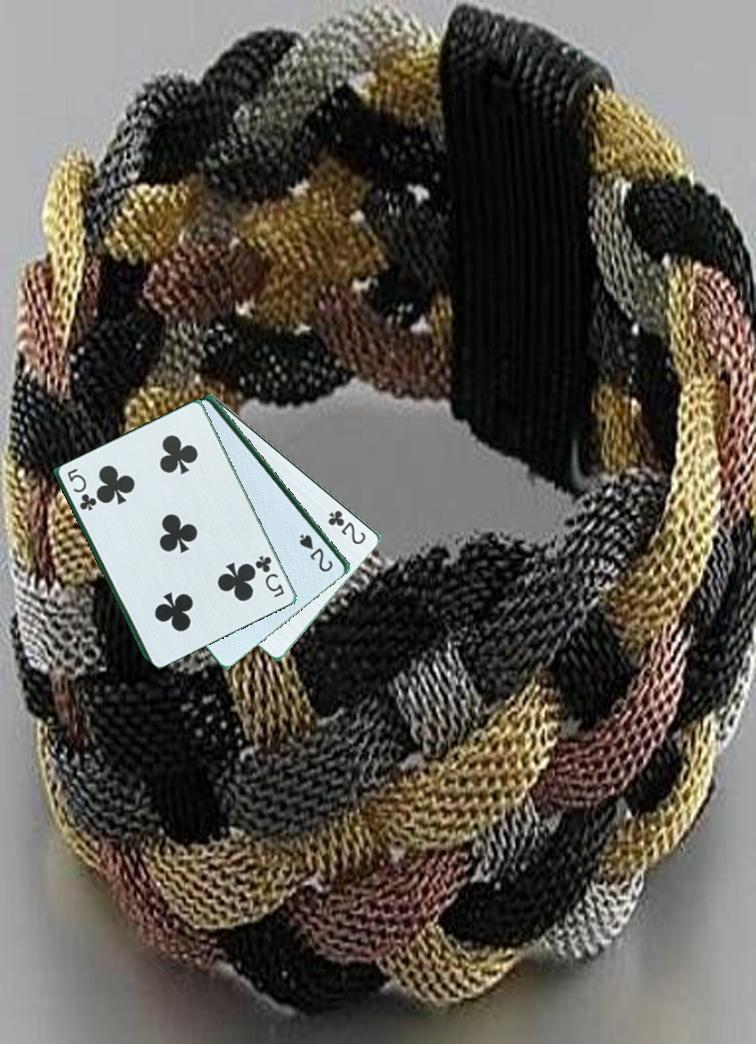2c: (325, 506, 369, 548)
2s: (297, 531, 337, 580)
5c: (252, 550, 288, 600), (64, 462, 98, 514)
